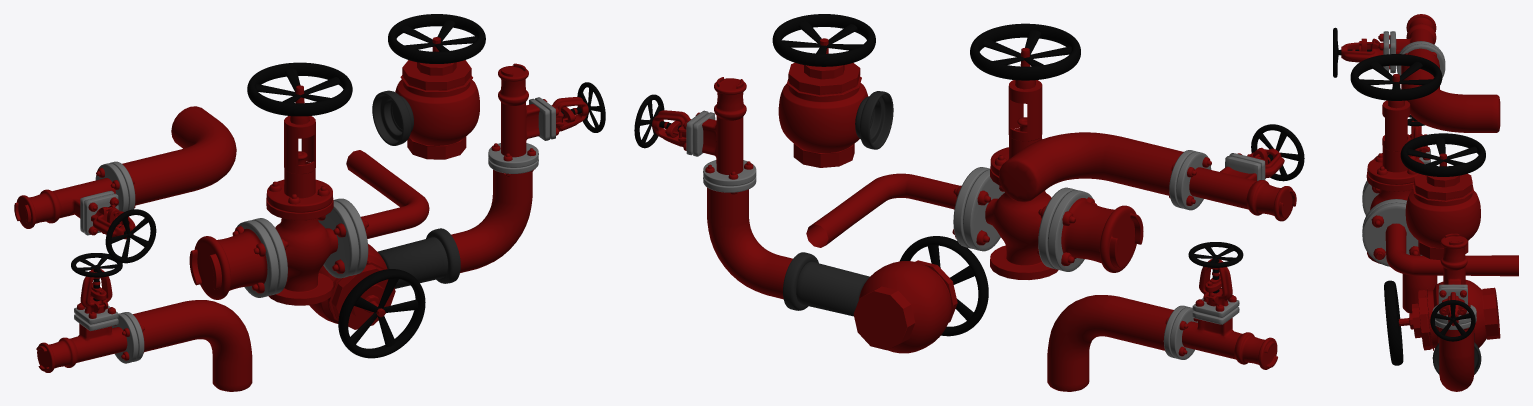
3 renders of one model, left to right at view 1: azimuth 30°, elevation 25°; view 2: azimuth 150°, elevation 25°; view 3: azimuth 270°, elevation 25°, orthographic. The views are drawn at different scales.
Visible parts, largest first — view 1: 组006; view 2: 组006; view 3: 组006.
Boxes of the visible parts, box(x1,y1,x2,y2) form: 组006: box(14, 14, 605, 391); 组006: box(634, 14, 1304, 391); 组006: box(1333, 14, 1518, 391).
Size of the model in its own units: 13202 by 6374 by 4129.
